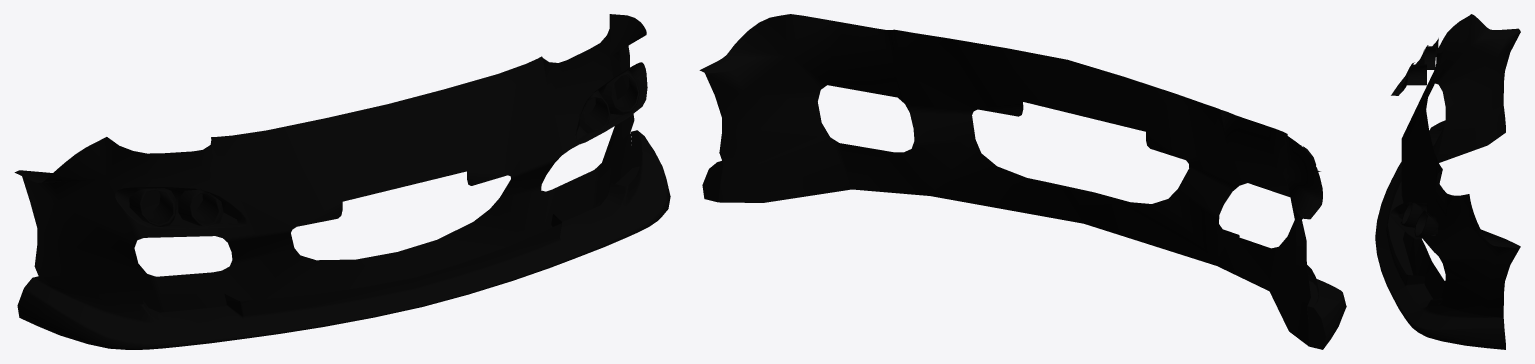
File: RX7_FB01_Trim.fbx
3 renders of one model, left to right at view 1: azimuth 30°, elevation 25°; view 2: azimuth 150°, elevation 25°; view 3: azimuth 270°, elevation 25°, orthographic. The views are drawn at different scales.
Visible parts, largest first — view 1: RX7_FB01_Trim; view 2: RX7_FB01_Trim; view 3: RX7_FB01_Trim.
Boxes of the visible parts, <box> form: RX7_FB01_Trim: <box>14,14,670,349</box>; RX7_FB01_Trim: <box>699,14,1346,349</box>; RX7_FB01_Trim: <box>1375,14,1520,349</box>.
Size of the model in its own units: 175 by 49.22 by 48.04.
